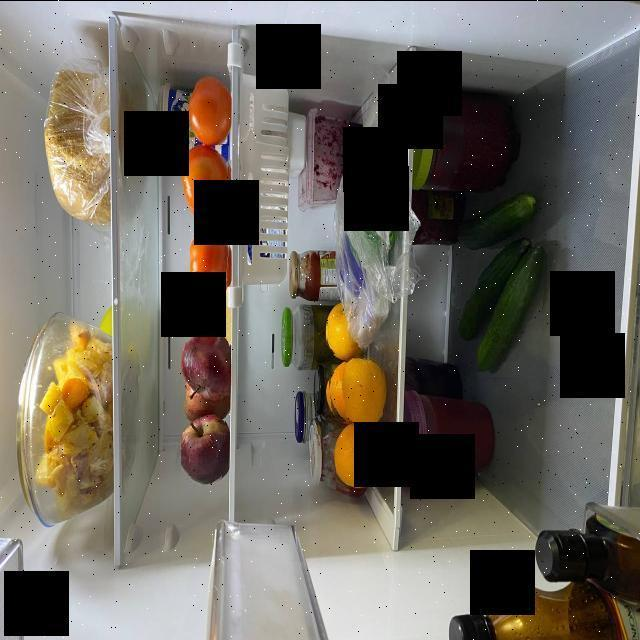apple: (185, 320, 230, 396), (181, 410, 226, 486), (183, 377, 224, 423)
cucumber: (478, 234, 548, 378), (452, 232, 528, 342), (459, 175, 547, 242)
orange: (336, 426, 383, 491), (340, 352, 383, 422), (326, 308, 358, 354), (326, 358, 346, 422)
tomato: (181, 135, 230, 221), (190, 216, 232, 296), (189, 72, 232, 142)
